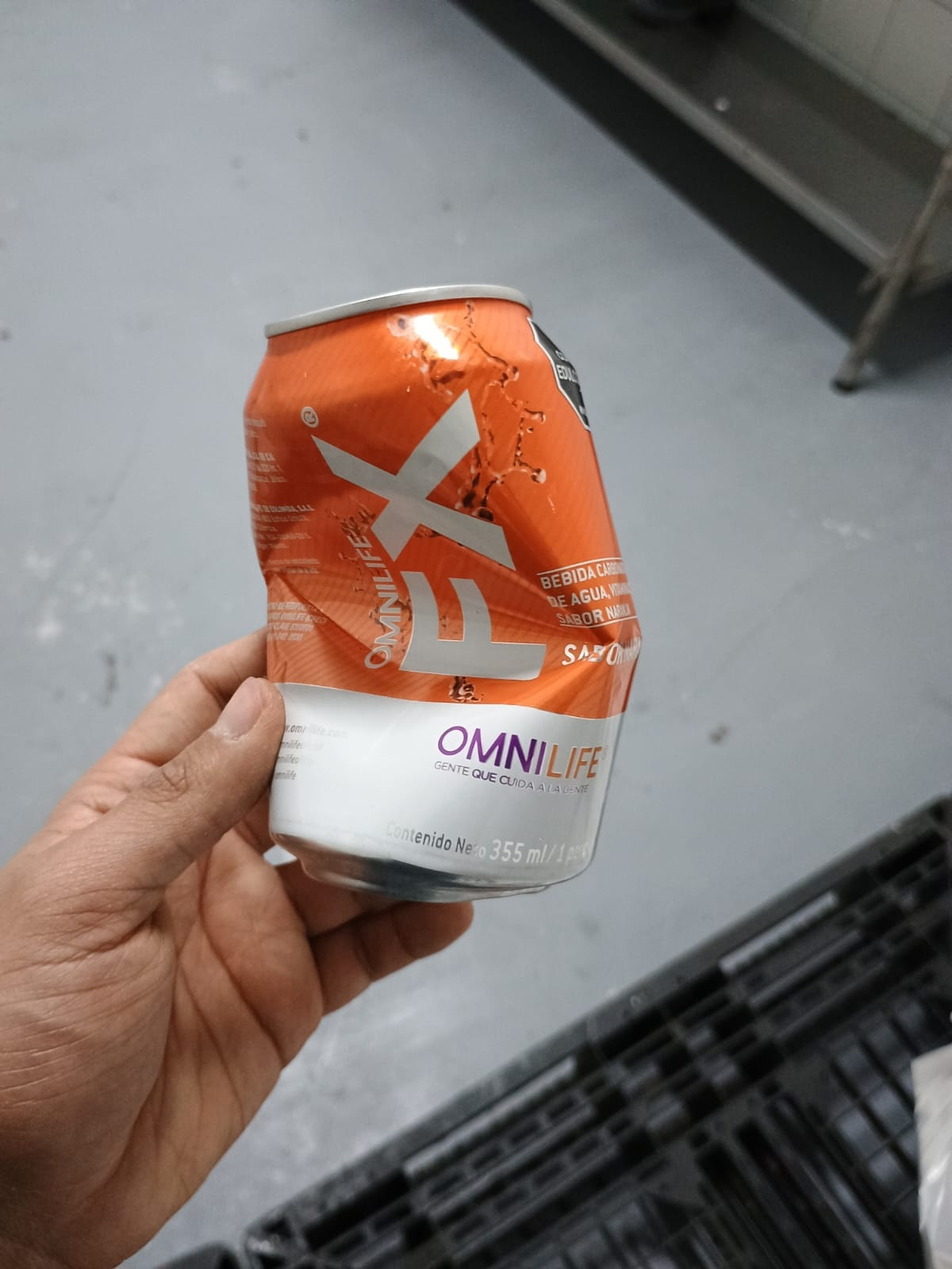Metal: (244, 280, 644, 906)
